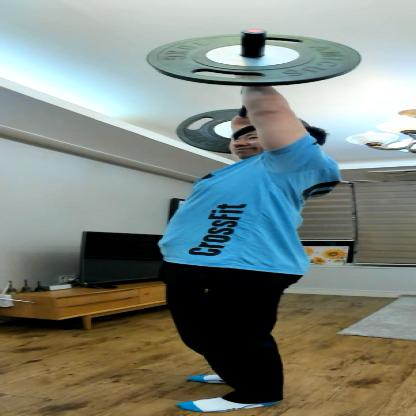Barbell: (129, 24, 379, 94)
